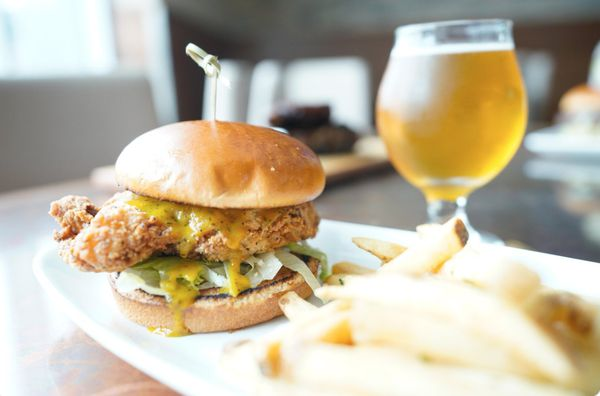soup: (55, 118, 330, 338)
